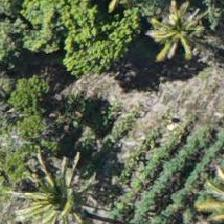coconut_tree: (117, 0, 207, 75), (16, 150, 106, 223)
